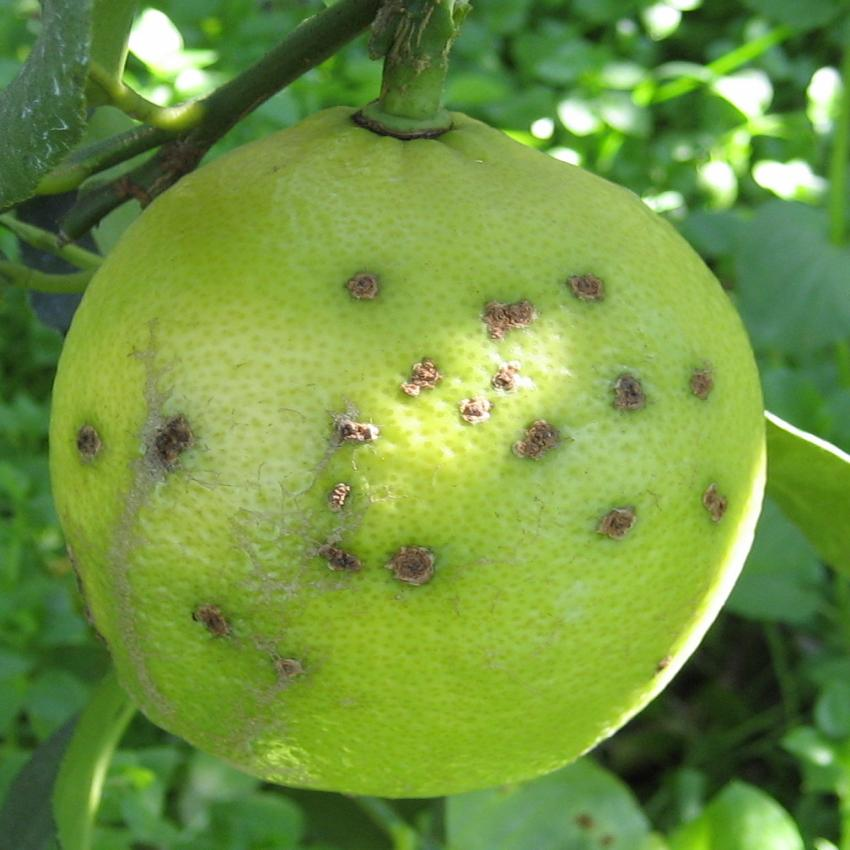Mal estado: (46, 110, 763, 808)
